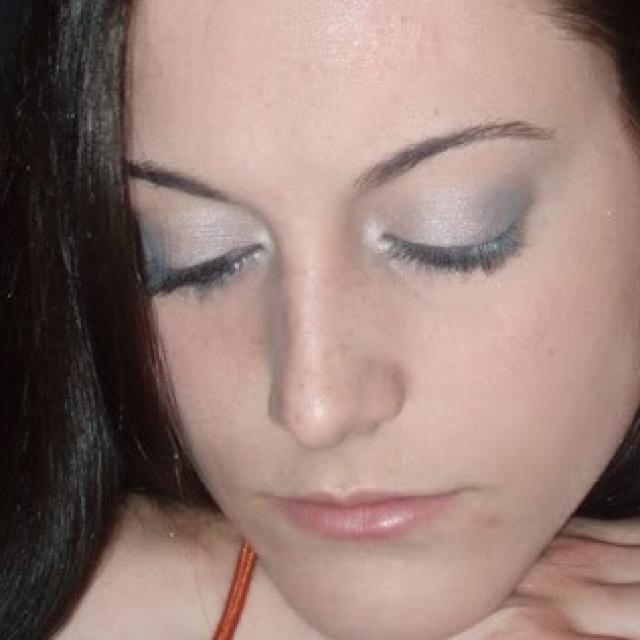close: (350, 95, 563, 293), (115, 140, 276, 316)
